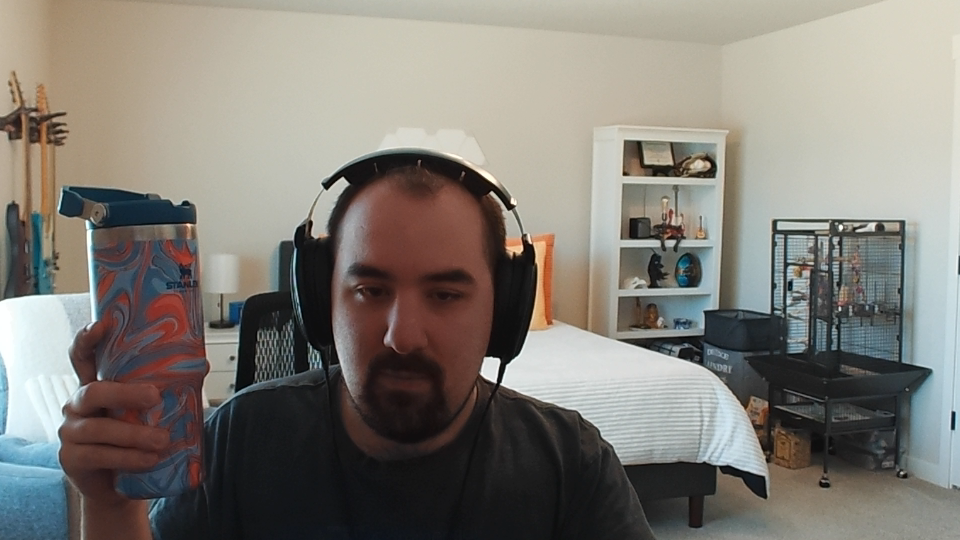StanleyCup: (56, 182, 211, 501)
